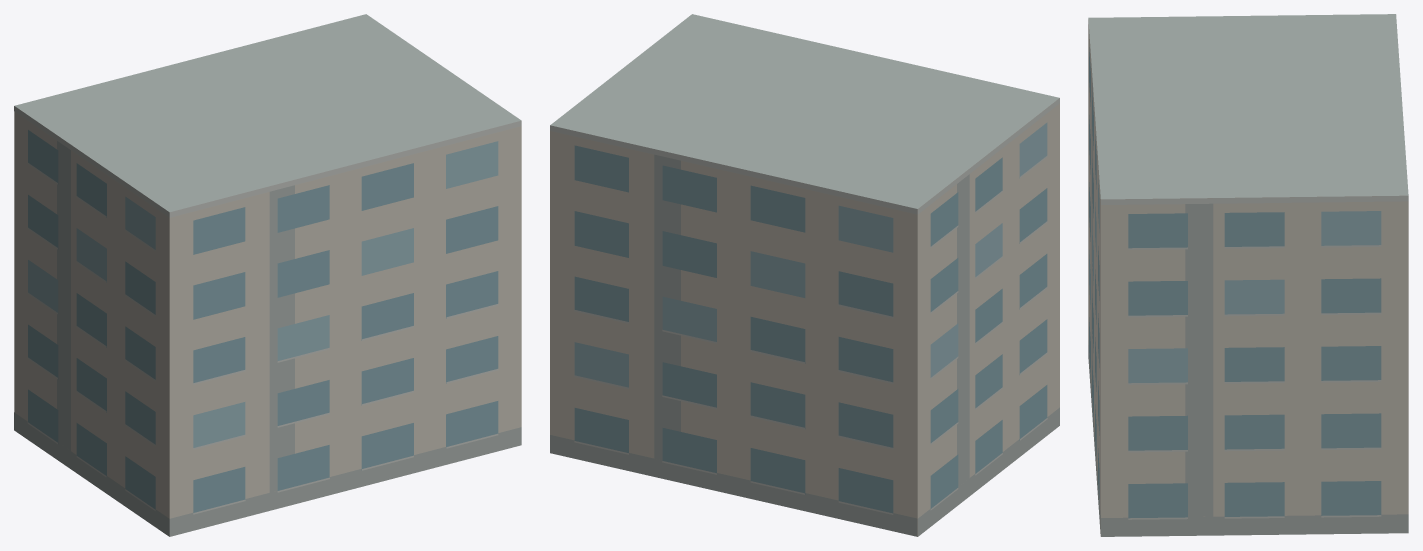
Rendered from survey-upis-32610863.glb.
3 renders of one model, left to right at view 1: azimuth 30°, elevation 25°; view 2: azimuth 150°, elevation 25°; view 3: azimuth 270°, elevation 25°, orthographic. The views are drawn at different scales.
Visible parts, largest first — view 1: survey-upis-32610863.tmp; view 2: survey-upis-32610863.tmp; view 3: survey-upis-32610863.tmp.
Boxes of the visible parts, x1,y1,x2,y2 form: survey-upis-32610863.tmp: (14,14,521,536); survey-upis-32610863.tmp: (550,14,1059,536); survey-upis-32610863.tmp: (1088,14,1408,536).
Size of the model in its own units: 16.98 by 14.4 by 12.4.
